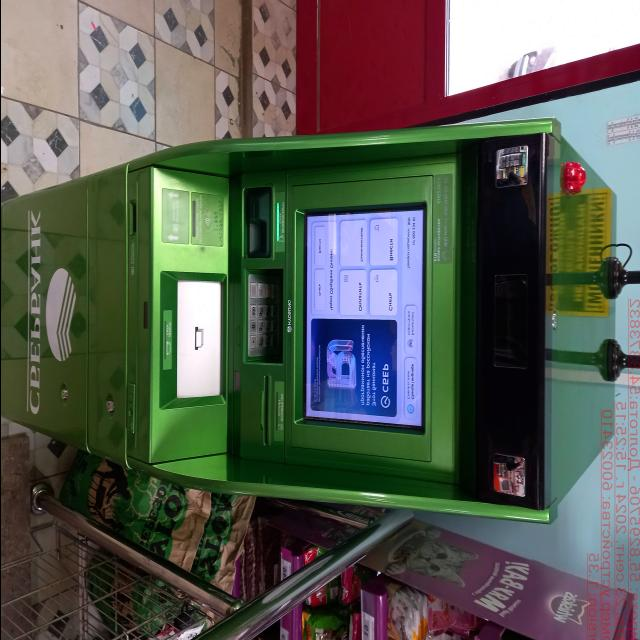bank: (0, 122, 623, 528)
